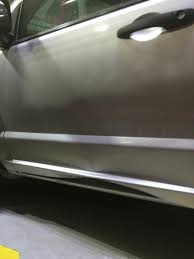Dent: (61, 160, 156, 198)
